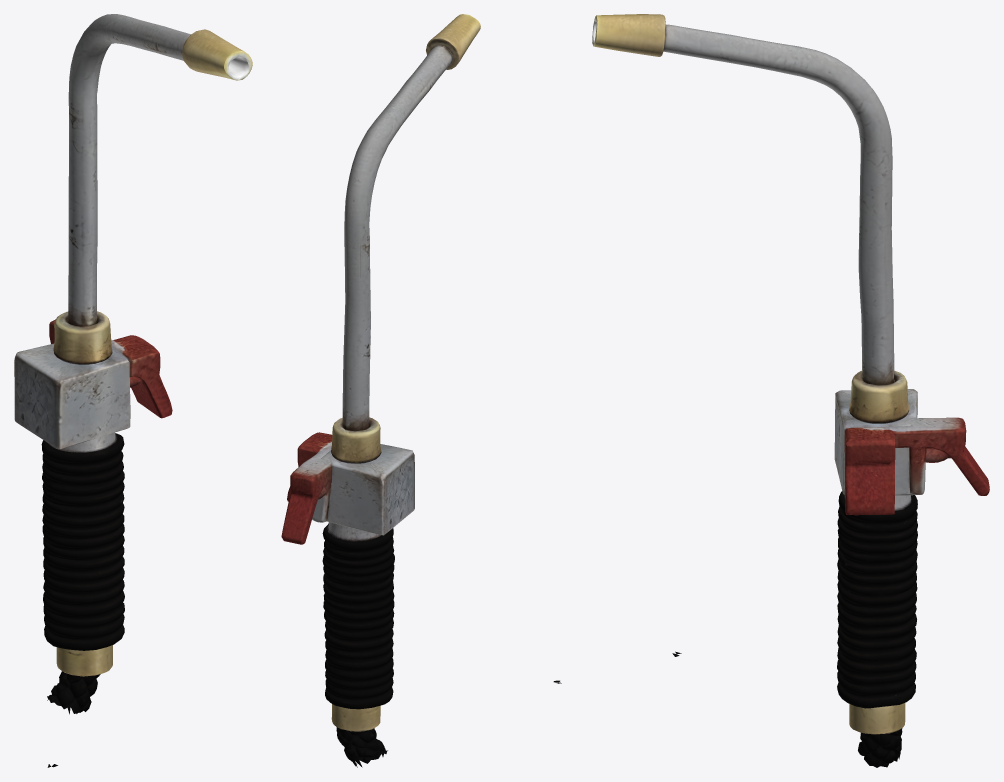
File: plasma_welder.glb
The picture shows the model from 3 angles, left to right: view 1: azimuth 30°, elevation 25°; view 2: azimuth 150°, elevation 25°; view 3: azimuth 270°, elevation 25°; orthographic projection. The views are drawn at different scales.
Visible parts, largest first — view 1: model; view 2: model; view 3: model.
Part boxes in pixels (x1=…): model: x1=14, y1=14, x2=252, y2=767; model: x1=281, y1=14, x2=561, y2=767; model: x1=592, y1=14, x2=989, y2=767.
Size of the model in its own units: 0.2371 by 0.8089 by 0.3856.
1 material, 1 textured.
